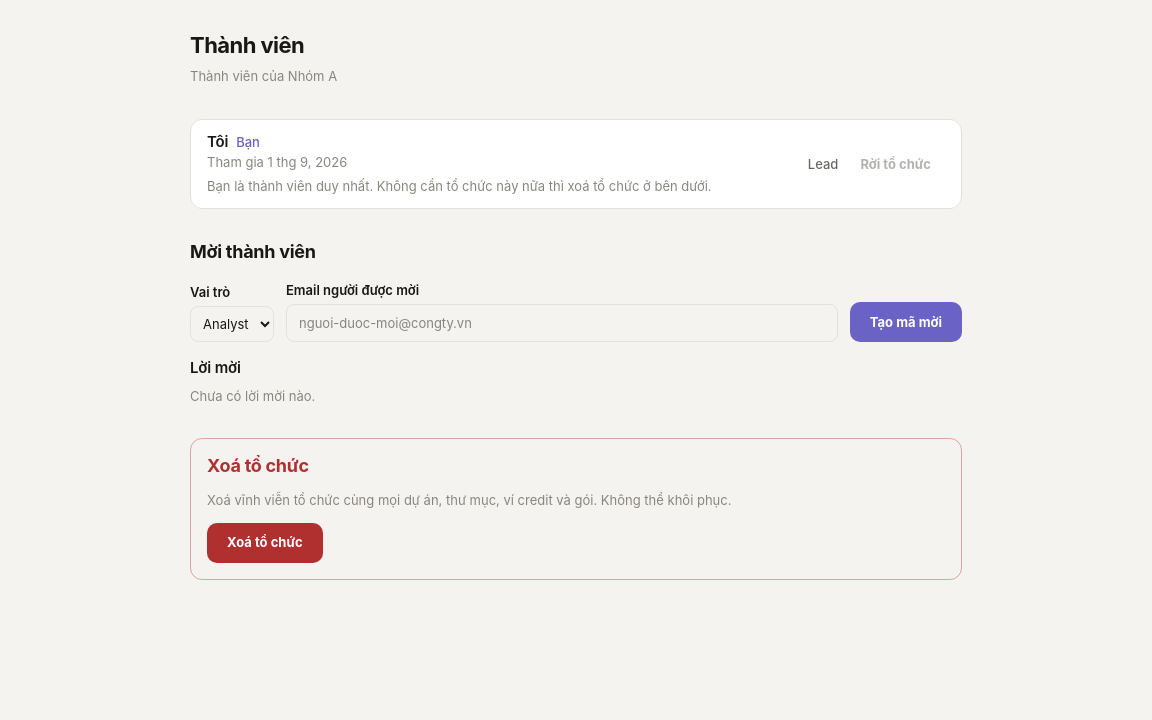
xoá tổ chức › đóng hộp thoại thì xoá chữ đã gõ
The width and height of the screenshot is (1152, 720).
Click the button "Xoá tổ chức" at (265, 542), box [207,522,323,562]
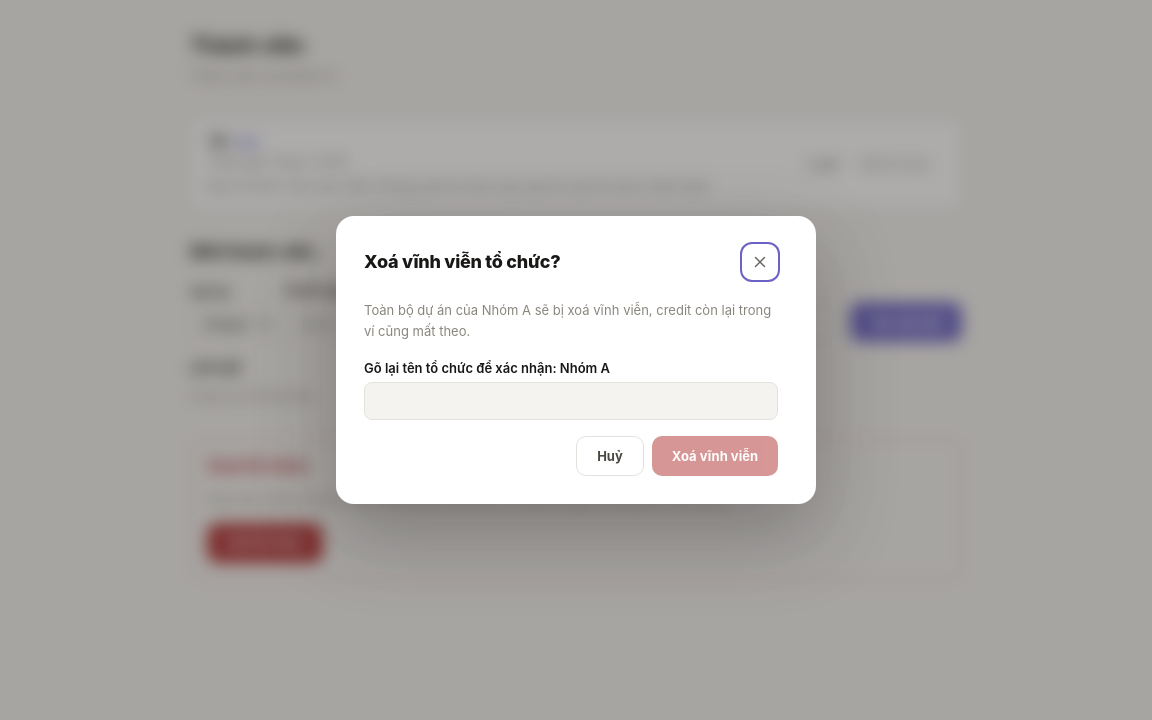
Type "Nhóm A" into the field labelled "Gõ lại tên tổ chức để xác nhận: Nhóm A" at (571, 401), box [364,382,778,420]
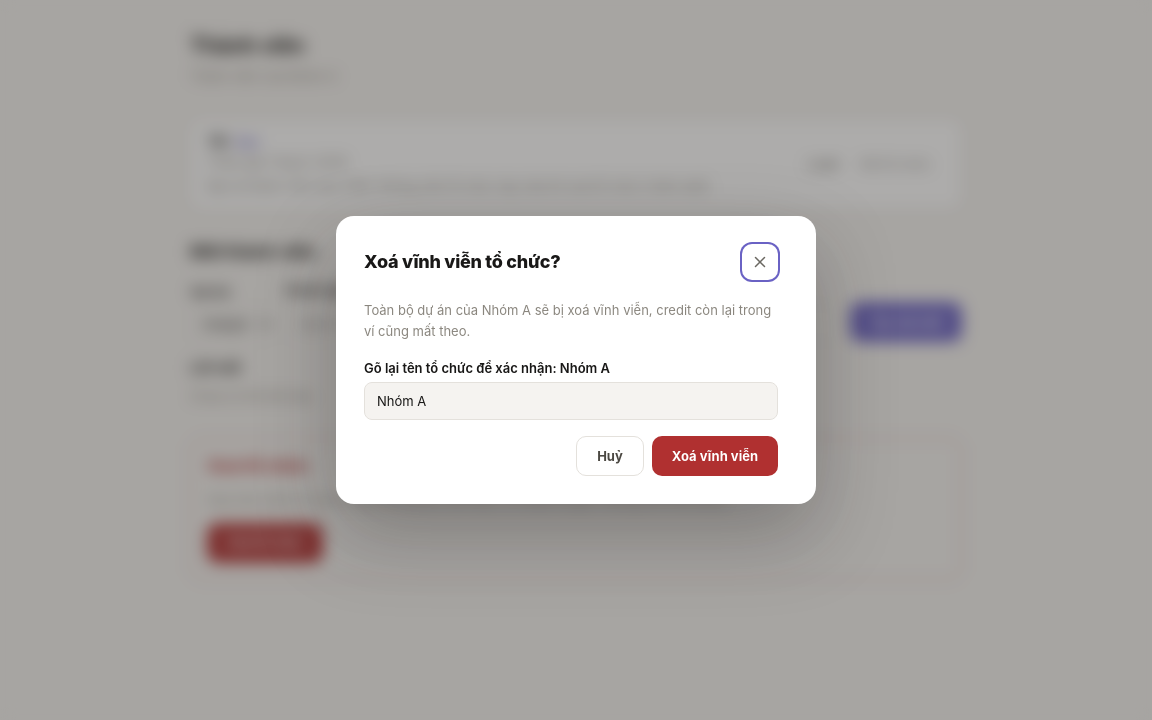
Click the button "Huỷ" at (610, 456), box [576,436,644,476]
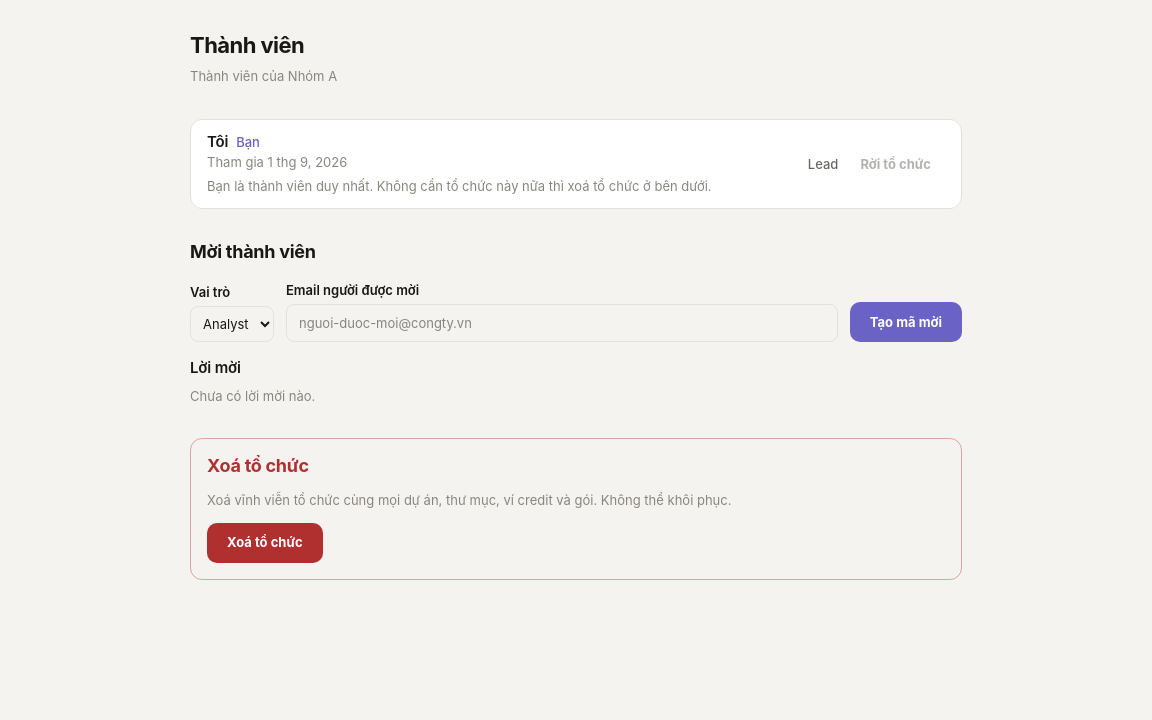
Click the button "Xoá tổ chức" at (265, 542), box [207,522,323,562]
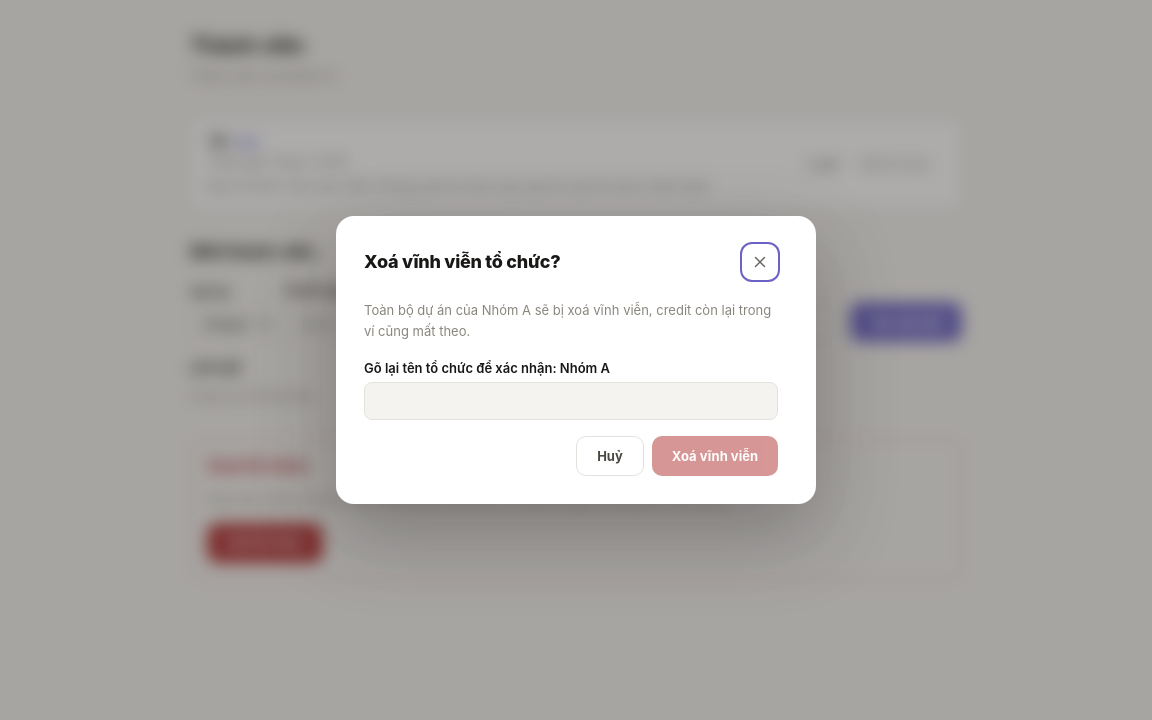
Result: the button "Xoá vĩnh viễn" is disabled at [652,436,778,476]
